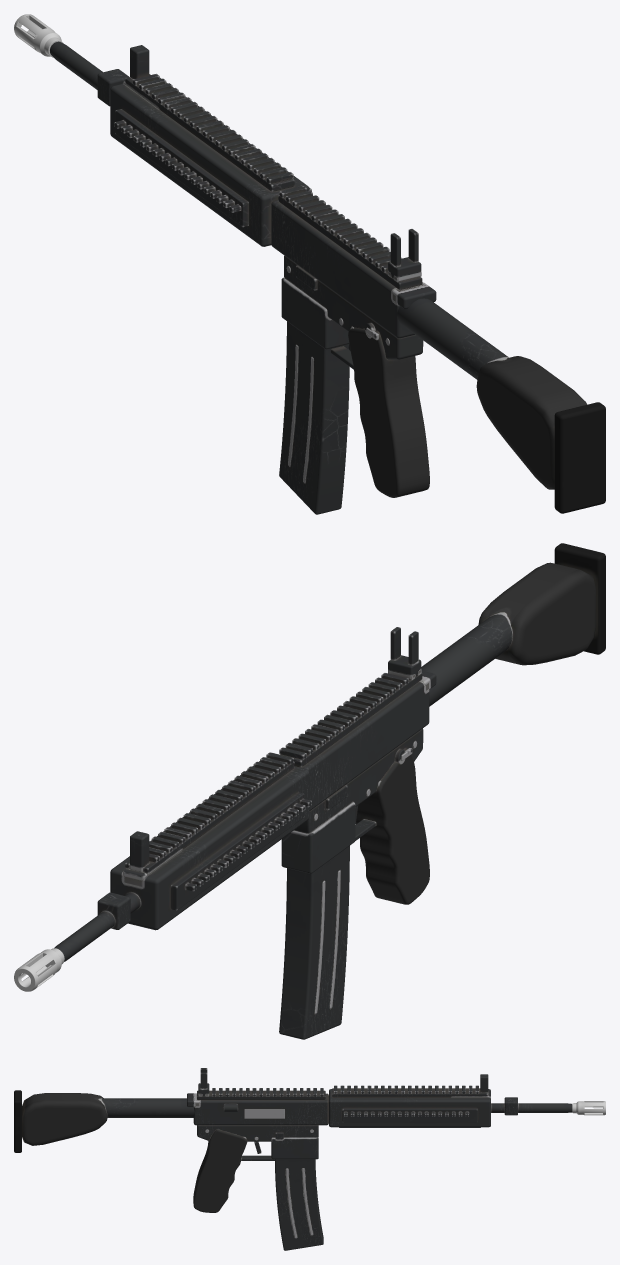
3 renders of one model, top to bottom at view 1: azimuth 30°, elevation 25°; view 2: azimuth 150°, elevation 25°; view 3: azimuth 270°, elevation 25°, orthographic. The views are drawn at different scales.
Parts seen in each view (by area): view 1: Frame, Stock, Mag_body, FlashHider; view 2: Frame, Stock, Mag_body, FlashHider; view 3: Frame, Stock, Mag_body, FlashHider.
Boxes of the visible parts, x1,y1,x2,y2 form: Frame: [50, 41, 436, 497]; Stock: [397, 298, 605, 513]; Mag_body: [279, 321, 349, 514]; FlashHider: [14, 14, 63, 57]; Frame: [54, 627, 436, 961]; Stock: [421, 543, 605, 706]; Mag_body: [279, 846, 349, 1039]; FlashHider: [14, 948, 64, 991]; Frame: [187, 1068, 572, 1212]; Stock: [14, 1090, 194, 1152]; Mag_body: [275, 1159, 323, 1250]; FlashHider: [572, 1101, 605, 1115].
Bounding box in the file's own units: 0.072 × 0.2891 × 0.876.
